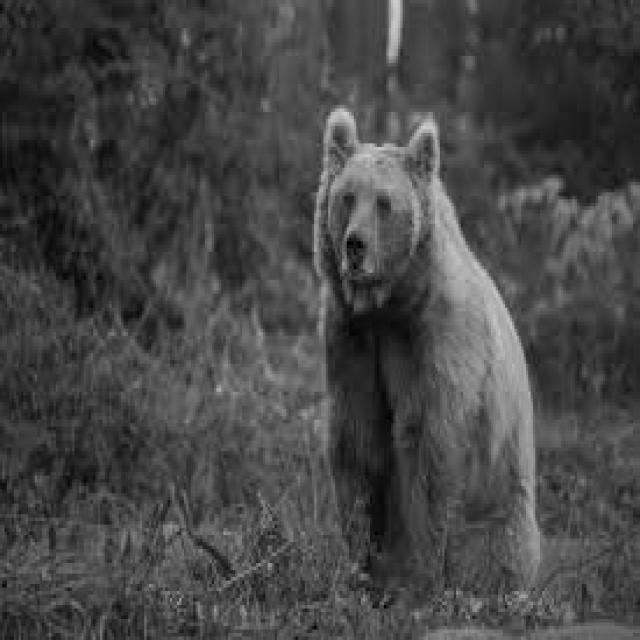Bear: (319, 91, 531, 596)
